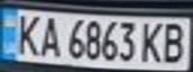3: (115, 18, 139, 63)
6: (63, 16, 87, 60), (100, 18, 121, 62)
8: (81, 17, 103, 61)
A: (36, 14, 63, 57)
B: (160, 19, 190, 64)
K: (9, 11, 42, 56), (136, 19, 169, 63)
